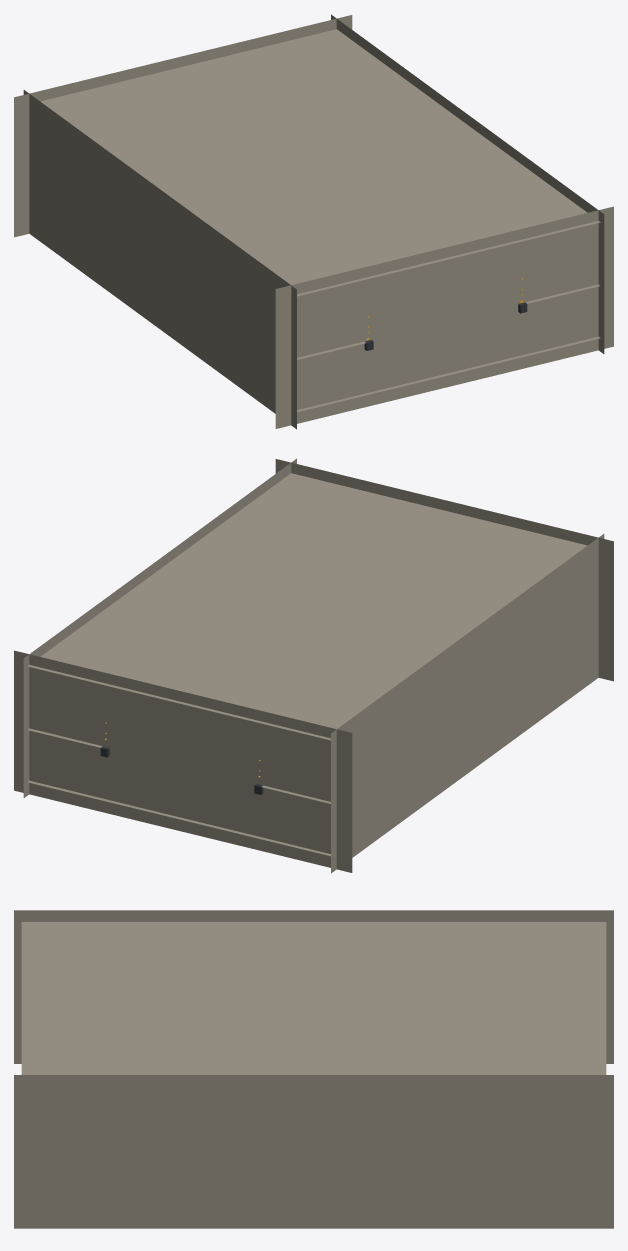
Rendered from garage.glb.
3 views of the same model, one above another, from view 1: azimuth 30°, elevation 25°; view 2: azimuth 150°, elevation 25°; view 3: azimuth 270°, elevation 25° (orthographic). The views are drawn at different scales.
Visible parts, largest first — view 1: Roof, BackWall, SideWall.001, BackWall.001, SideWall, Floor; view 2: Roof, BackWall.001, SideWall.001, BackWall, SideWall, Floor; view 3: SideWall, Roof, SideWall.001.
Boxes of the visible parts, x1,y1,x2,y2 form: Roof: [40, 29, 600, 296]; BackWall: [275, 206, 613, 428]; SideWall.001: [23, 90, 296, 429]; BackWall.001: [14, 15, 352, 237]; SideWall: [331, 14, 604, 353]; Floor: [297, 336, 600, 412]; Roof: [27, 473, 587, 740]; BackWall.001: [14, 650, 352, 872]; SideWall.001: [331, 534, 604, 873]; BackWall: [275, 459, 613, 681]; SideWall: [23, 458, 296, 797]; Floor: [27, 780, 330, 856]; SideWall: [14, 1075, 613, 1228]; Roof: [21, 922, 606, 1074]; SideWall.001: [14, 910, 613, 1063].
Bounding box in the file's own units: 44 × 17.42 × 61.6.
